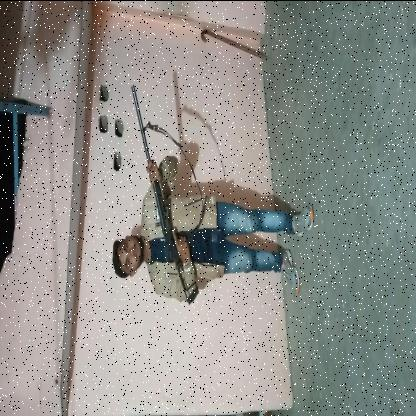rifle: (130, 82, 200, 306)
